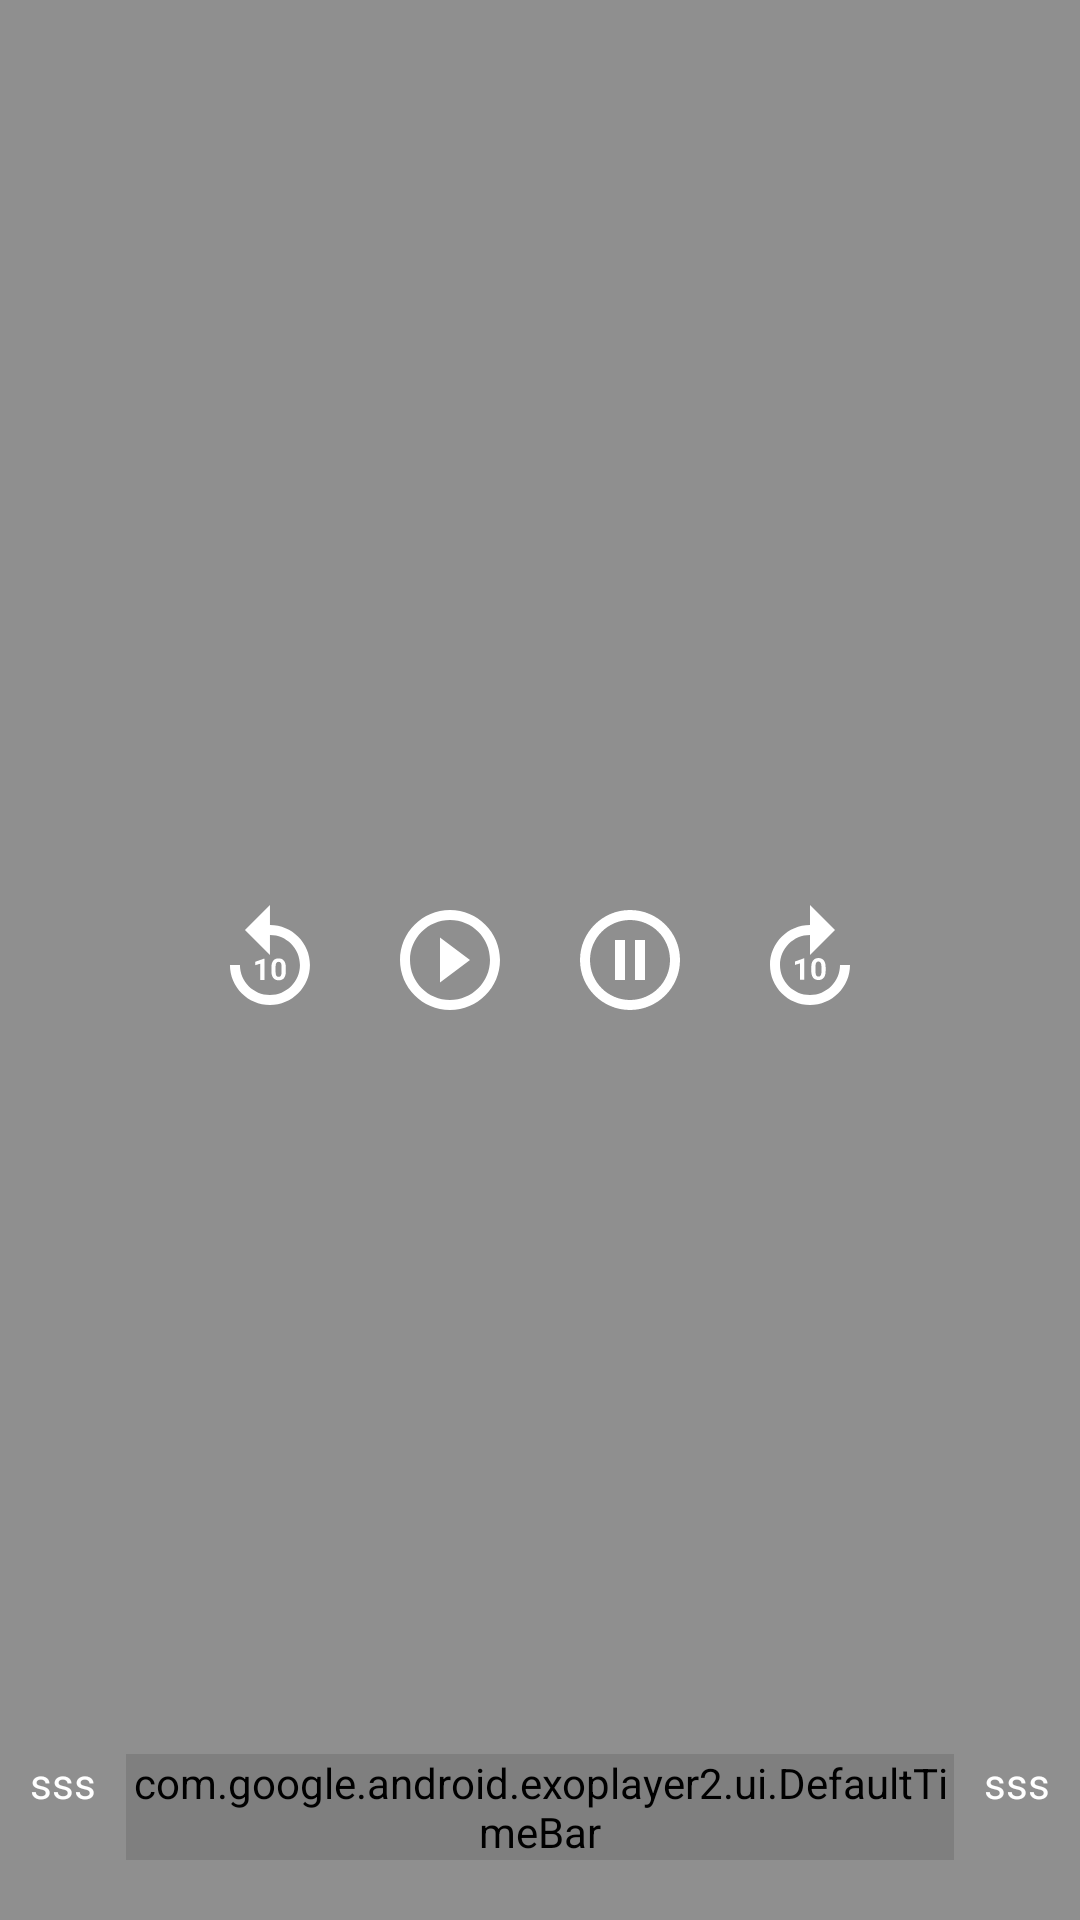

Screen size 1080×1920. Icon name, then its center in pixels as [x,y]:
forward: [810,955]
pause circle: [630,960]
play circle: [450,960]
replay: [270,955]
